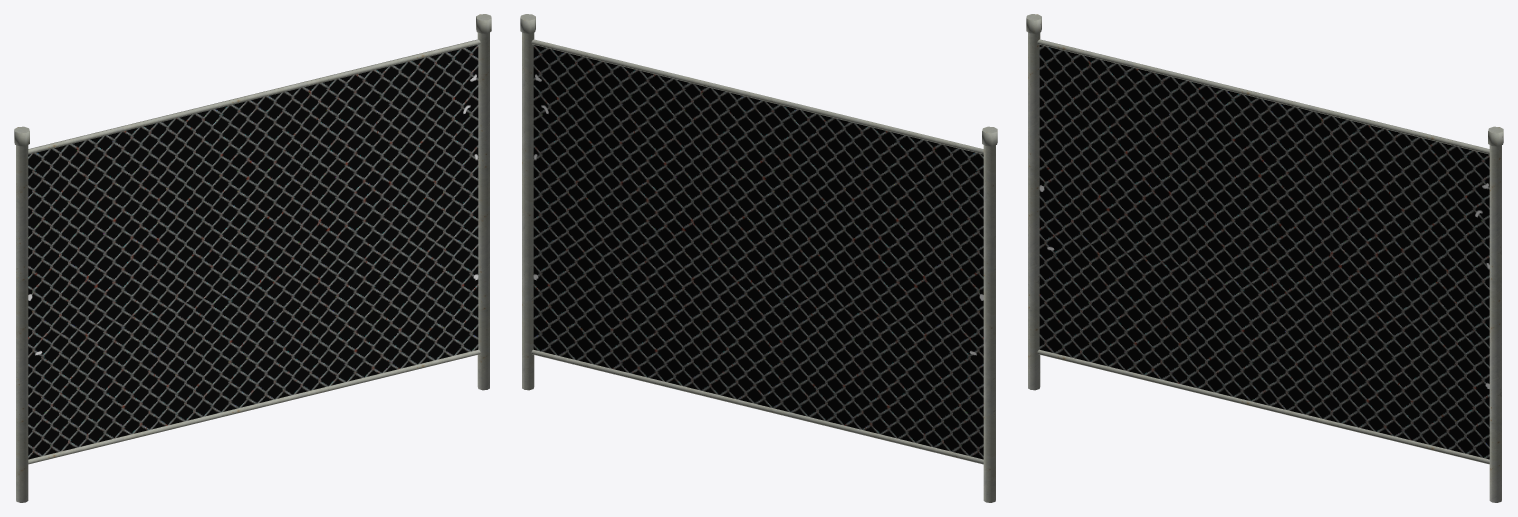
File: MallaRejas.obj
3 renders of one model, left to right at view 1: azimuth 30°, elevation 25°; view 2: azimuth 150°, elevation 25°; view 3: azimuth 330°, elevation 25°, orthographic.
Parts seen in each view (by area): view 1: fence__Cylinder; view 2: fence__Cylinder; view 3: fence__Cylinder.
Part boxes in pixels (box(x1,y1,x2,y2)): fence__Cylinder: box(14, 14, 491, 502); fence__Cylinder: box(520, 14, 997, 502); fence__Cylinder: box(1026, 14, 1503, 502).
Bounding box in the file's own units: 7.94 × 5.9 × 0.2334.
